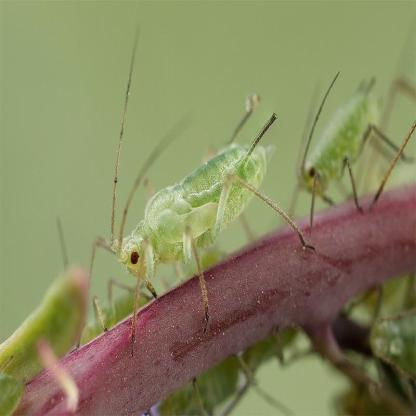aphid: (99, 106, 298, 336), (301, 68, 416, 235), (0, 240, 97, 415), (159, 339, 305, 416), (363, 297, 416, 399)
